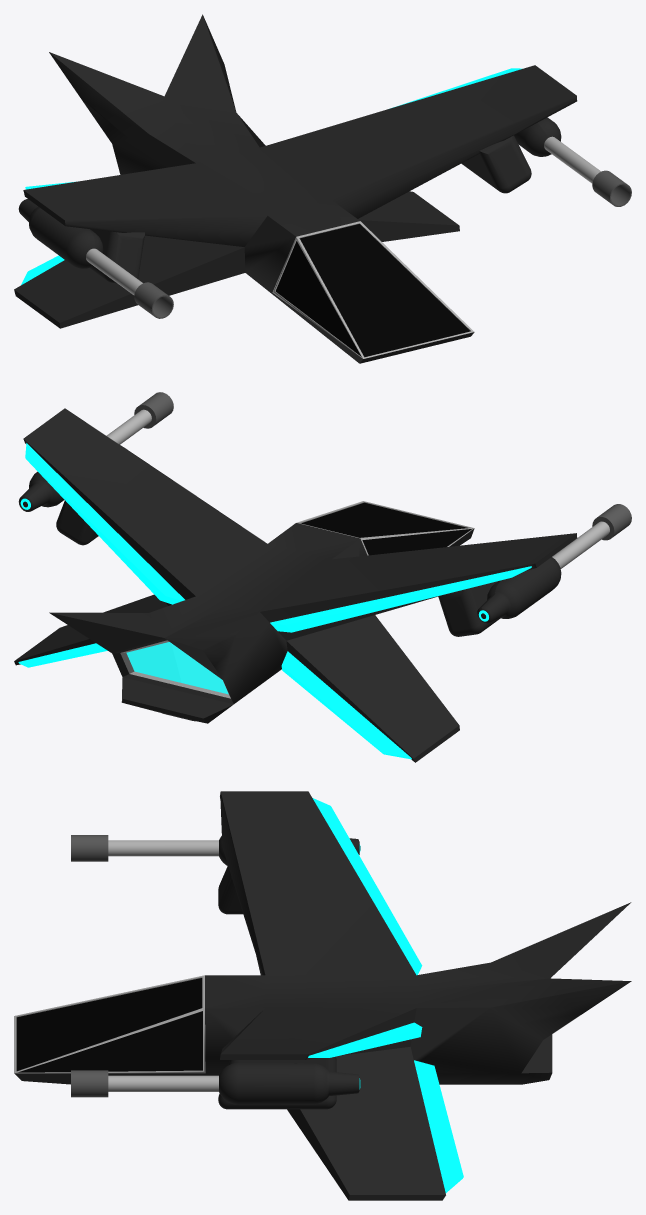
Rendered from Spaceship_Final.fbx.
3 views of the same model, one above another, from view 1: azimuth 30°, elevation 25°; view 2: azimuth 150°, elevation 25°; view 3: azimuth 270°, elevation 25° (orthographic). The views are drawn at different scales.
Parts seen in each view (by area): view 1: pCube5; view 2: pCube5; view 3: pCube5.
Boxes of the visible parts, box(x1,y1,x2,y2) form: pCube5: box(14, 14, 631, 363); pCube5: box(14, 392, 631, 762); pCube5: box(14, 791, 631, 1200).
Size of the model in its own units: 4.59 by 1.43 by 4.56.
